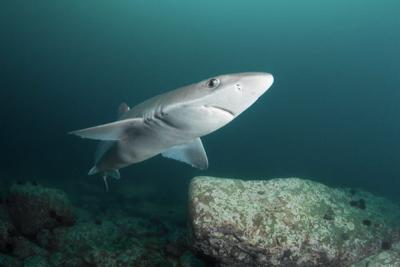Shark -Selachimorpha-: (63, 64, 276, 194)
